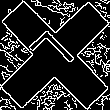L_SE: (26, 26, 84, 84)
